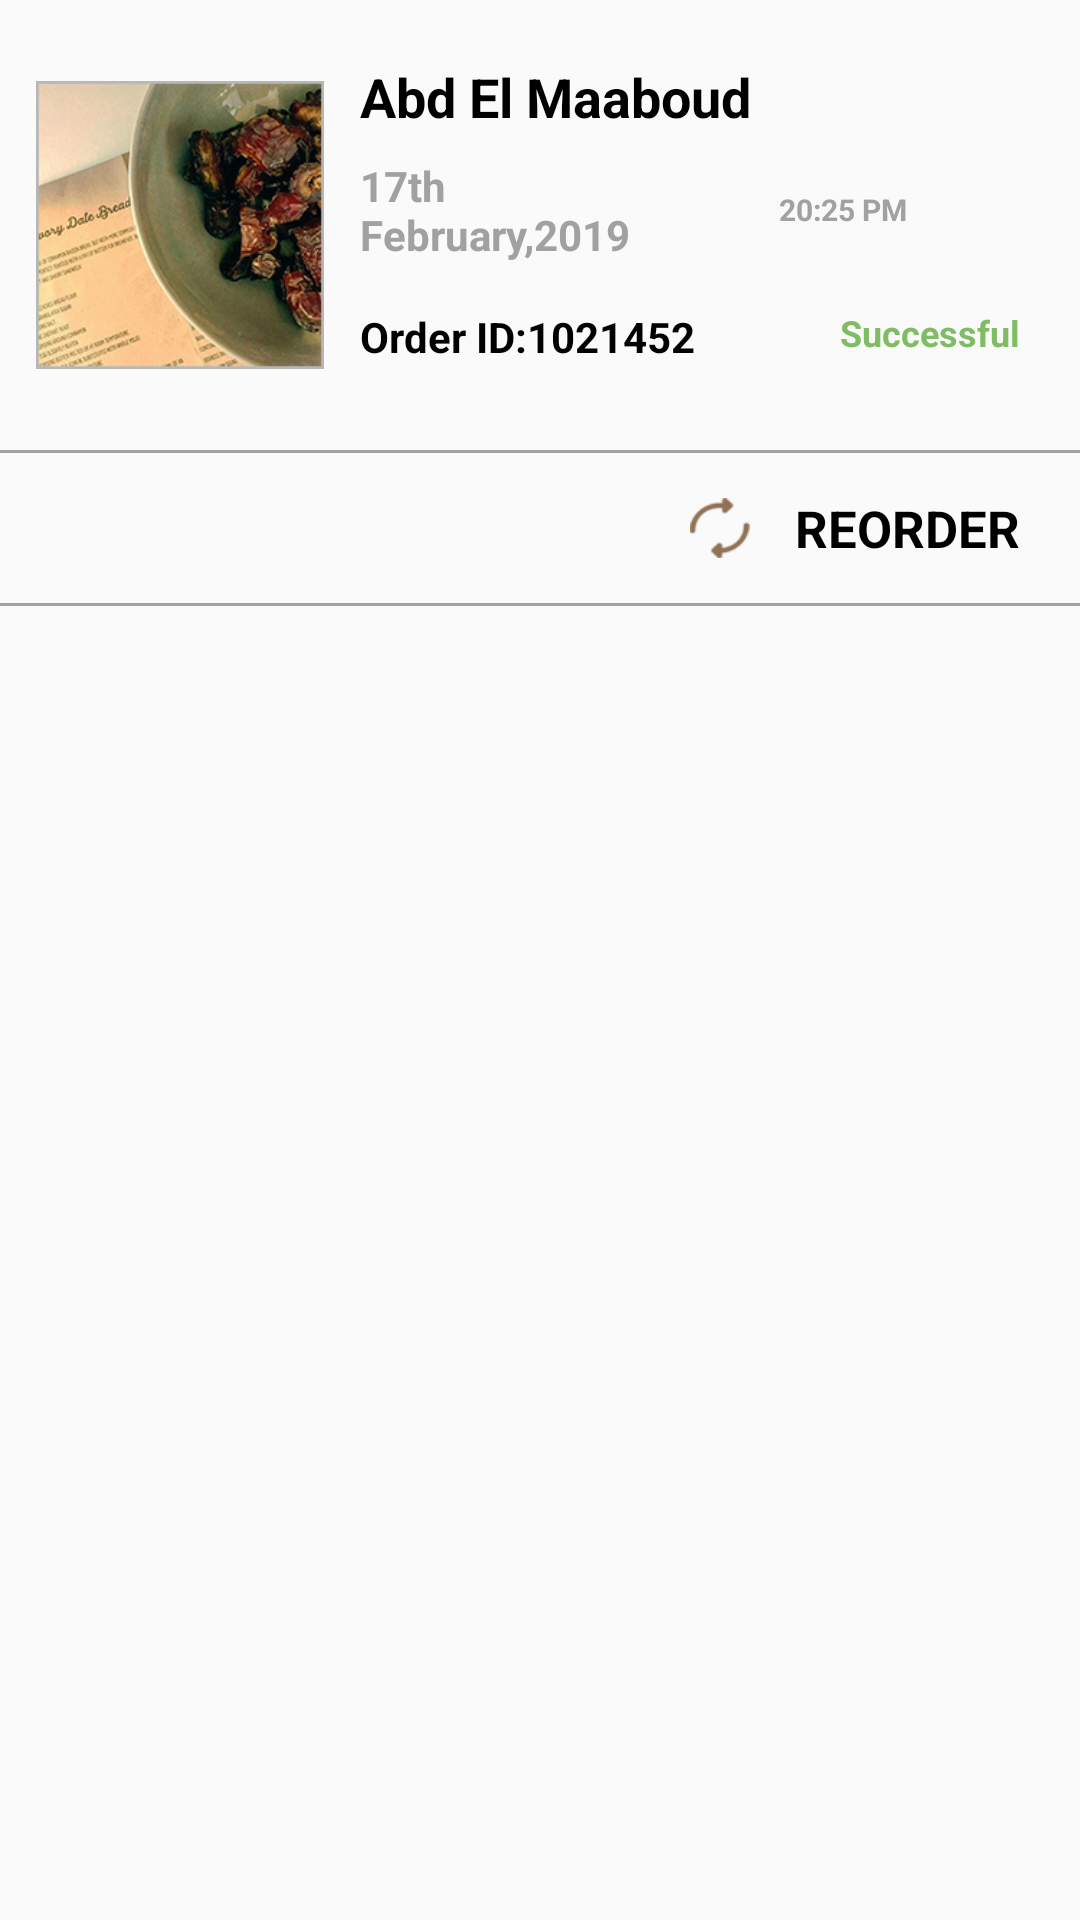

Where icons sit on this 1080×1920 app screen, as box=[x1, y1, x2, y2]:
myorders dates: box=[36, 81, 324, 369]
